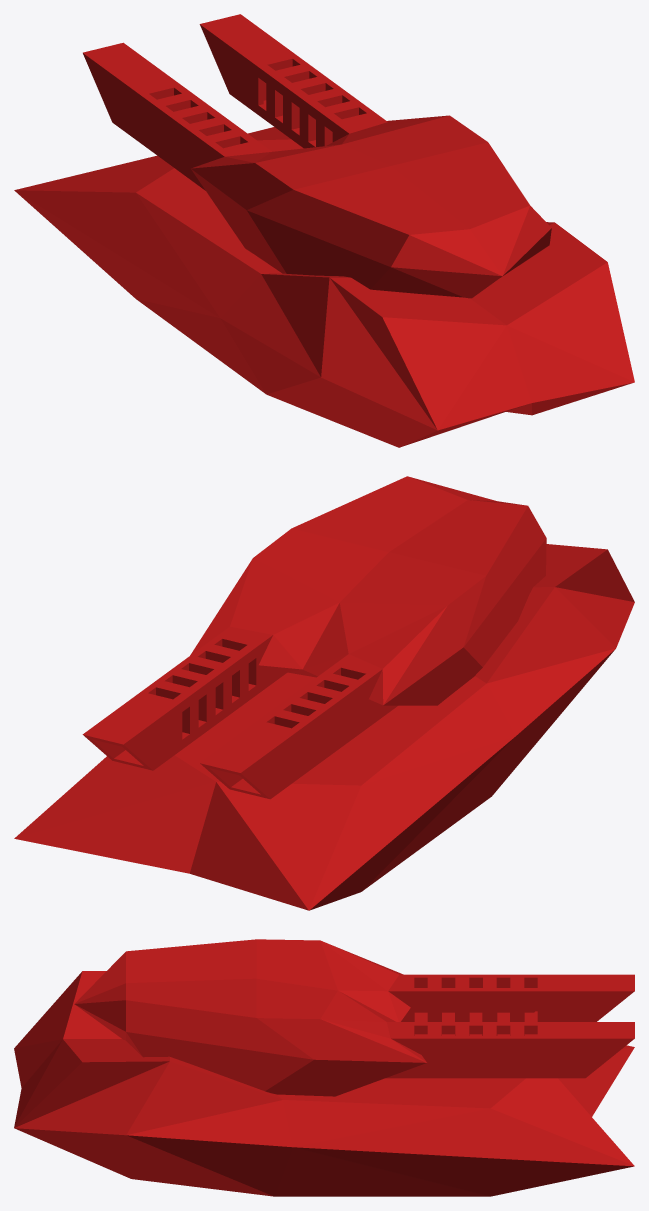
File: hover_tank_4.fbx
3 views of the same model, one above another, from view 1: azimuth 30°, elevation 25°; view 2: azimuth 150°, elevation 25°; view 3: azimuth 270°, elevation 25° (orthographic). The views are drawn at different scales.
Parts seen in each view (by area): view 1: Cube.001; view 2: Cube.001; view 3: Cube.001.
Part boxes in pixels (box(x1,y1,x2,y2)): Cube.001: box(14, 14, 634, 447); Cube.001: box(14, 476, 634, 910); Cube.001: box(14, 939, 634, 1196).
Size of the model in its own units: 303 by 209 by 667.
